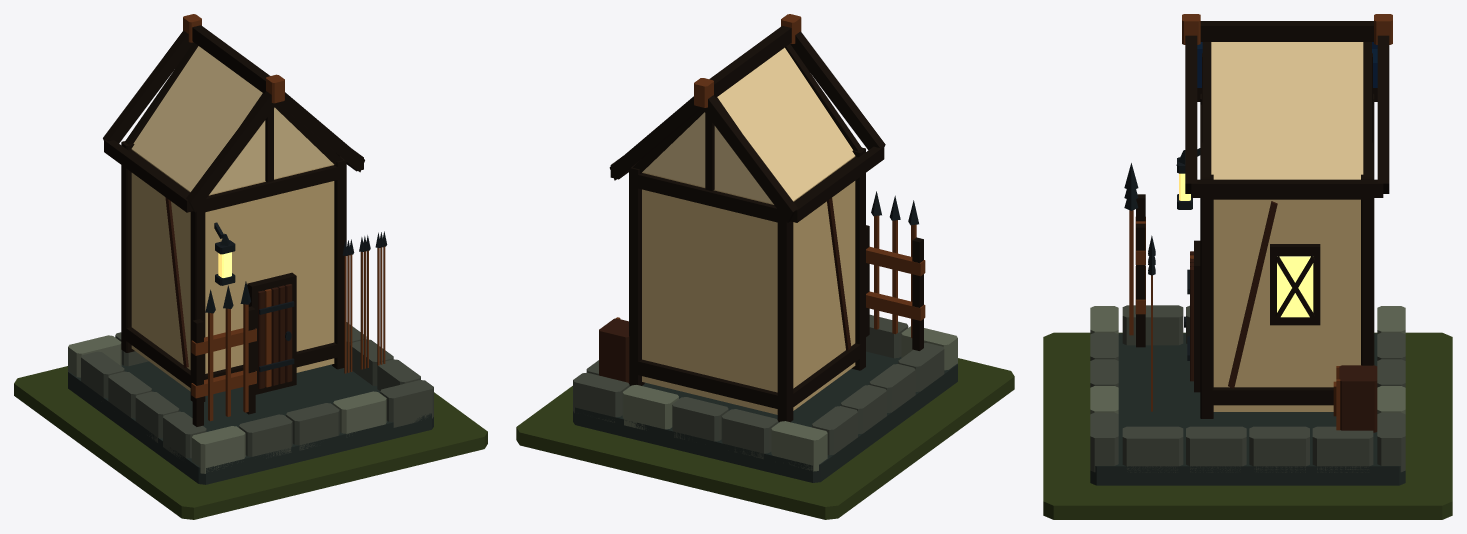
The model's file is fletcher_t4.glb.
The picture shows the model from 3 angles, left to right: view 1: azimuth 30°, elevation 25°; view 2: azimuth 150°, elevation 25°; view 3: azimuth 270°, elevation 25°; orthographic projection. The views are drawn at different scales.
Parts seen in each view (by area): view 1: MMR | fletcher | T04 Architecture.001, MMR | fletcher | Tier 04 Ground.001; view 2: MMR | fletcher | T04 Architecture.001, MMR | fletcher | Tier 04 Ground.001; view 3: MMR | fletcher | T04 Architecture.001, MMR | fletcher | Tier 04 Ground.001.
Boxes of the visible parts, x1,y1,x2,y2 form: MMR | fletcher | T04 Architecture.001: (68,14,433,484); MMR | fletcher | Tier 04 Ground.001: (14,366,487,519); MMR | fletcher | T04 Architecture.001: (573,14,957,482); MMR | fletcher | Tier 04 Ground.001: (516,358,1014,519); MMR | fletcher | T04 Architecture.001: (1090,14,1405,485); MMR | fletcher | Tier 04 Ground.001: (1043,332,1452,519).
Bounding box in the file's own units: 1.3 × 1.46 × 1.3.
Materials: 2 (1 with a texture image).
